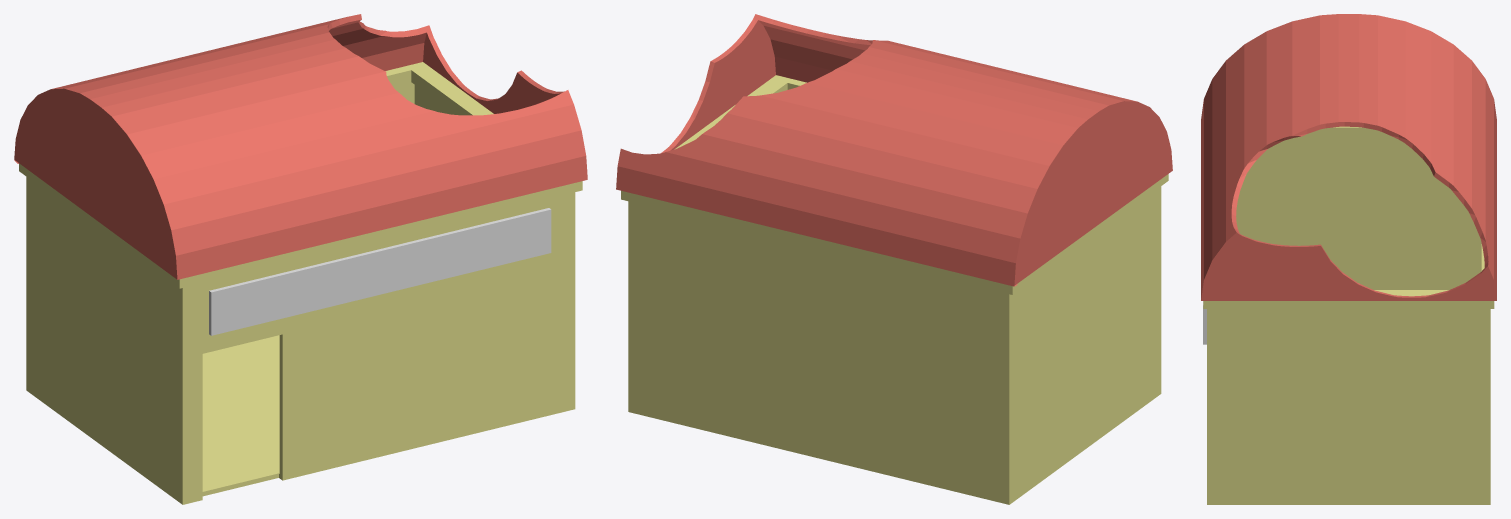
The model's file is ruined_store 1.fbx.
The picture shows the model from 3 angles, left to right: view 1: azimuth 30°, elevation 25°; view 2: azimuth 150°, elevation 25°; view 3: azimuth 270°, elevation 25°; orthographic projection. The views are drawn at different scales.
Visible parts, largest first — view 1: Cube, Cylinder, Sign; view 2: Cube, Cylinder; view 3: Cube, Cylinder.
Part boxes in pixels (left/top/right/bottom): Cube: left=19, top=62, right=582, bottom=504; Cylinder: left=14, top=14, right=587, bottom=279; Sign: left=209, top=208, right=551, bottom=335; Cube: left=621, top=75, right=1168, bottom=504; Cylinder: left=616, top=14, right=1172, bottom=286; Cube: left=1203, top=126, right=1494, bottom=504; Cylinder: left=1201, top=14, right=1496, bottom=300.
Size of the model in its own units: 1251 by 1009 by 863.
